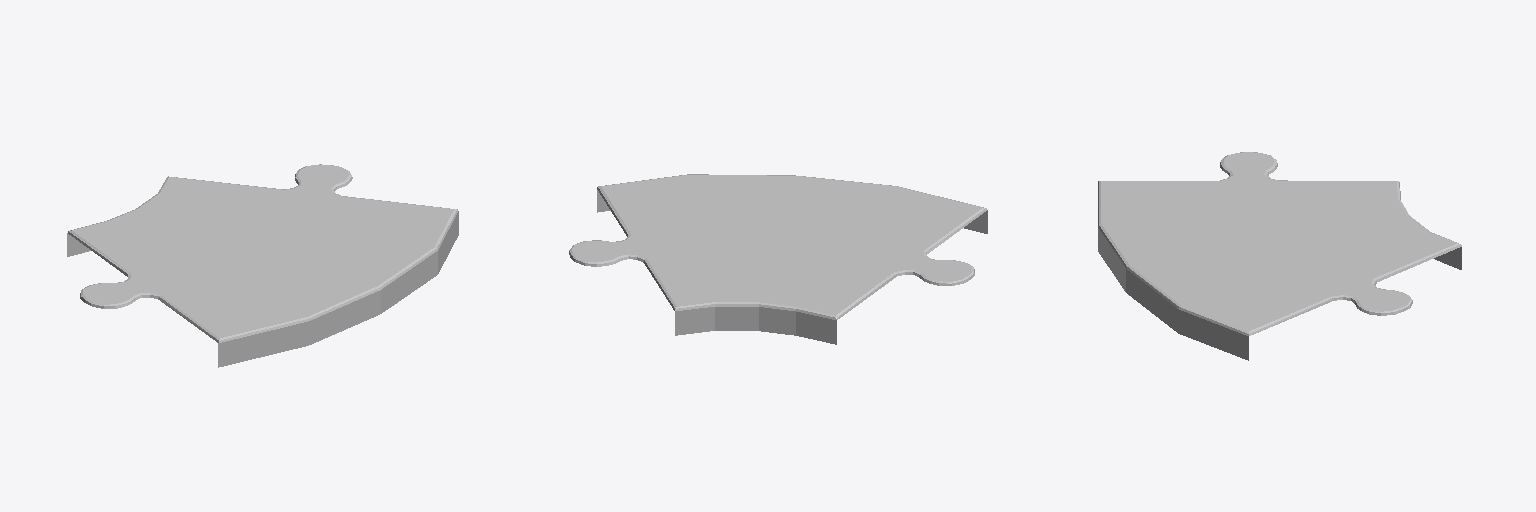
File: Bottom Turn LTR Knobs.obj
3 views of the same model, side by side, from view 1: azimuth 30°, elevation 25°; view 2: azimuth 150°, elevation 25°; view 3: azimuth 270°, elevation 25° (orthographic).
Parts seen in each view (by area): view 1: PuzzleBottomTurnLTRKnobs; view 2: PuzzleBottomTurnLTRKnobs; view 3: PuzzleBottomTurnLTRKnobs.
Part boxes in pixels (x1,y1,x2,y2): PuzzleBottomTurnLTRKnobs: (67,164,458,367); PuzzleBottomTurnLTRKnobs: (569,174,987,344); PuzzleBottomTurnLTRKnobs: (1098,152,1461,360).
Bounding box in the file's own units: 845 × 59.05 × 713.